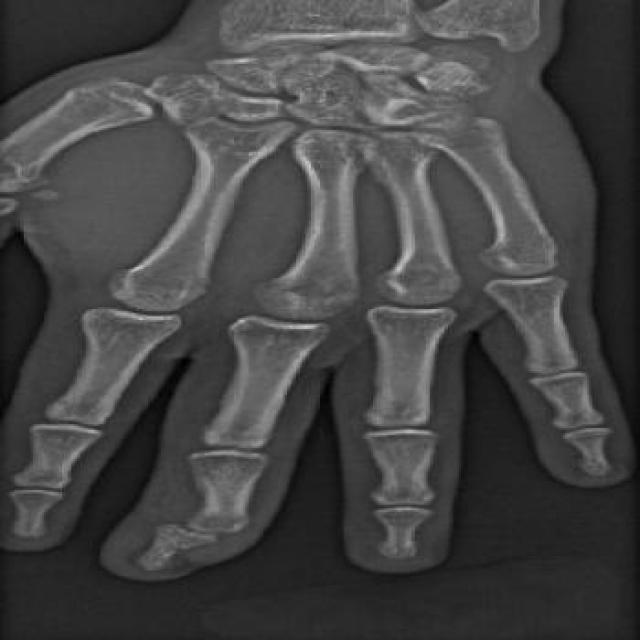Fracture: (156, 512, 254, 549)
